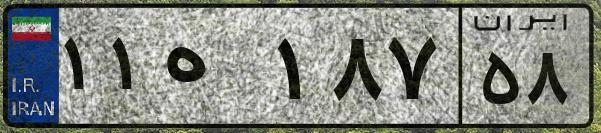1: (270, 28, 330, 110), (57, 26, 110, 100), (110, 28, 158, 98)
5: (475, 38, 525, 113)
7: (385, 28, 445, 110)
8: (330, 28, 385, 110), (525, 38, 570, 115)
ه: (158, 20, 270, 120)
